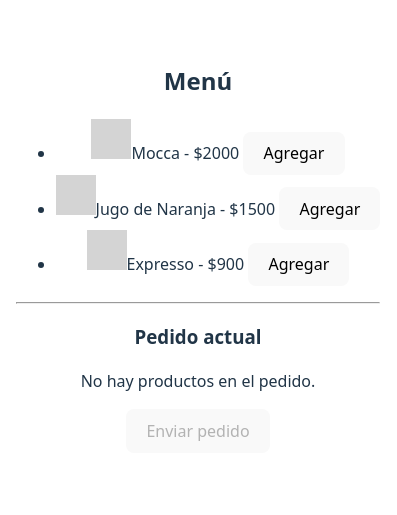
Test: Componente Menu › HU3 - calcula el total del pedido al agregar productos
The image size is (397, 515).
Click the button "Agregar" in the row of "Mocca" at (294, 153), box left=243, top=132, right=345, bottom=175
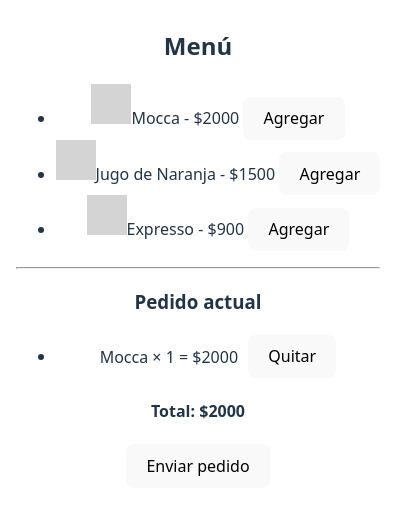
Click the button "Agregar" in the row of "Jugo de Naranja" at (330, 174), box left=279, top=152, right=380, bottom=196
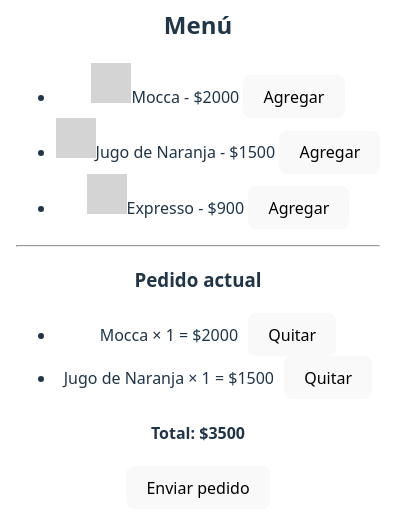
Click the 1st button "Agregar" at (294, 97), box left=243, top=75, right=345, bottom=118
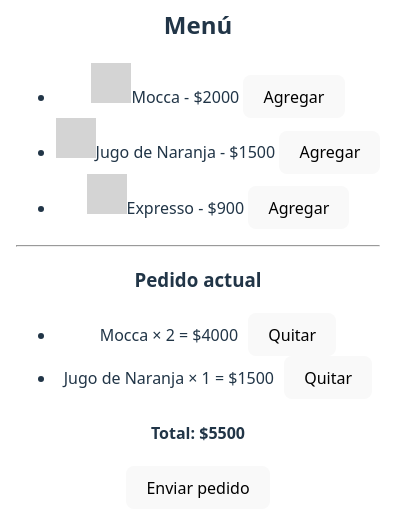
Expected: the heading "Total: $5500" is shown, left=151, top=422, right=245, bottom=444
